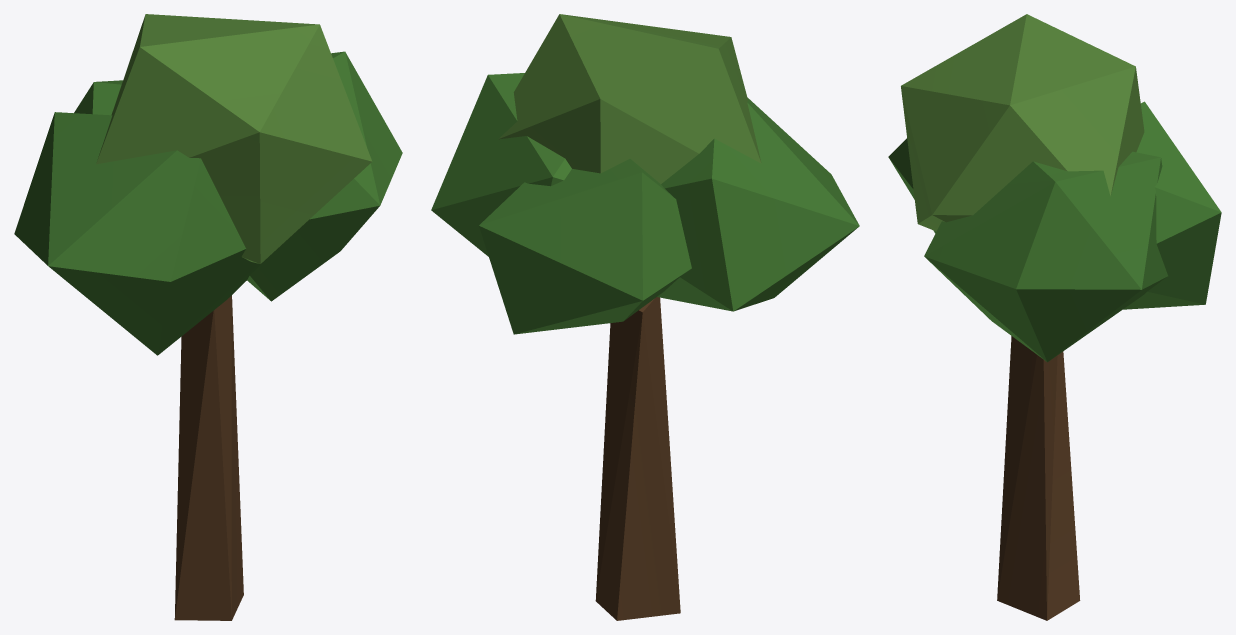
Rendered from prop_broadleaf_lod2.glb.
3 renders of one model, left to right at view 1: azimuth 30°, elevation 25°; view 2: azimuth 150°, elevation 25°; view 3: azimuth 270°, elevation 25°, orthographic. The views are drawn at different scales.
Visible parts, largest first — view 1: prop_broadleaf_lod2; view 2: prop_broadleaf_lod2; view 3: prop_broadleaf_lod2.
Boxes of the visible parts, bbox=[...] form: prop_broadleaf_lod2: bbox=[14, 14, 402, 620]; prop_broadleaf_lod2: bbox=[431, 14, 859, 620]; prop_broadleaf_lod2: bbox=[888, 14, 1221, 620].
Size of the model in its own units: 3.45 by 5.13 by 2.8.
